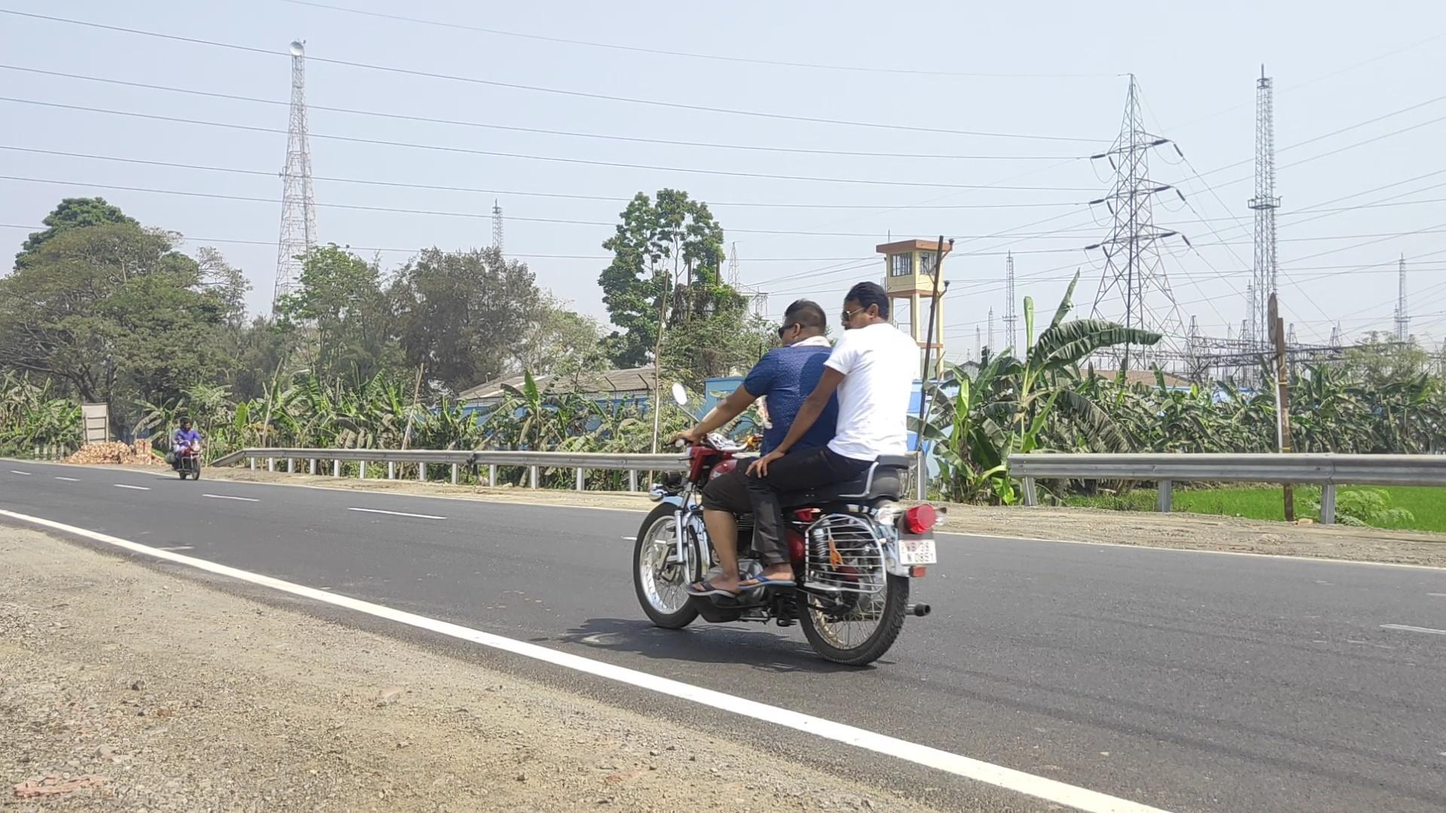bike: (633, 282, 946, 665), (165, 418, 205, 481)
